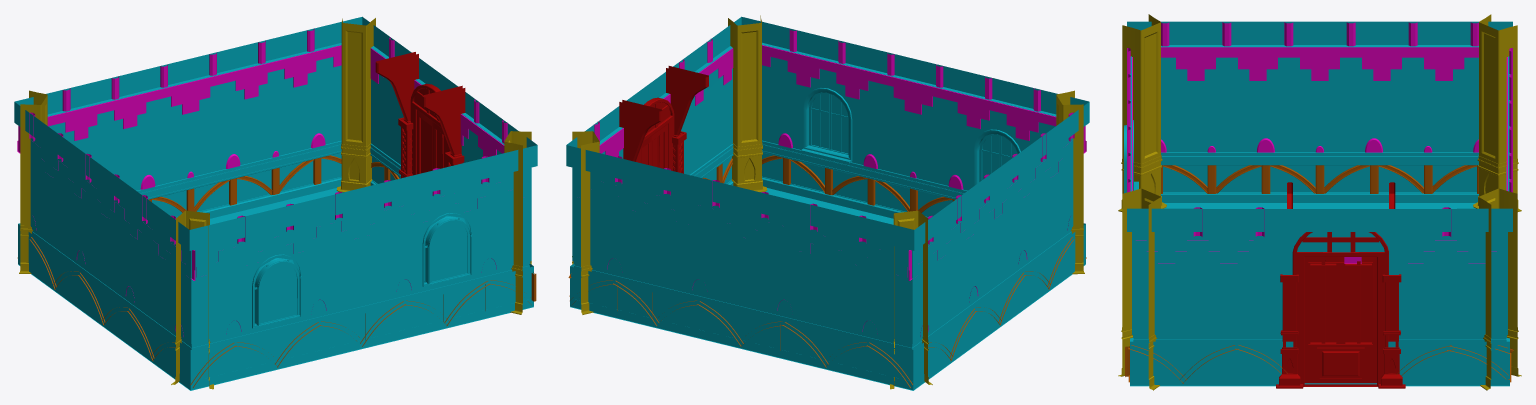
File: Room_uniob.fbx
3 views of the same model, side by side, from view 1: azimuth 30°, elevation 25°; view 2: azimuth 150°, elevation 25°; view 3: azimuth 270°, elevation 25° (orthographic). The views are drawn at different scales.
Visible parts, largest first — view 1: Room_Uniob; view 2: Room_Uniob; view 3: Room_Uniob.
Boxes of the visible parts, x1,y1,x2,y2 form: Room_Uniob: [14, 16, 537, 390]; Room_Uniob: [566, 15, 1089, 390]; Room_Uniob: [1118, 14, 1521, 390].
Bounding box in the file's own units: 608 × 272 × 534.
